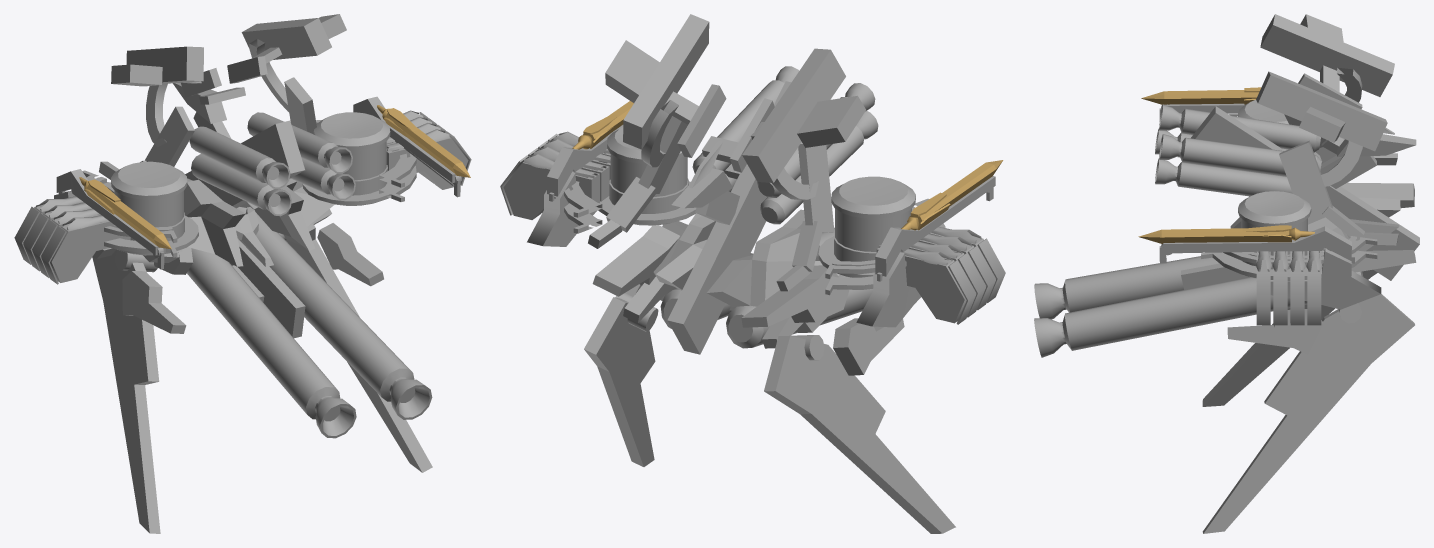
File: mainA.fbx
The picture shows the model from 3 angles, left to right: view 1: azimuth 30°, elevation 25°; view 2: azimuth 150°, elevation 25°; view 3: azimuth 270°, elevation 25°; orthographic projection. The views are drawn at different scales.
Visible parts, largest first — view 1: polySurface62; view 2: polySurface62; view 3: polySurface62.
Part boxes in pixels (<box>): polySurface62: <box>14,14,471,533</box>; polySurface62: <box>500,14,1005,533</box>; polySurface62: <box>1034,14,1419,533</box>.
Bounding box in the file's own units: 67.8 × 68.42 × 56.17.
